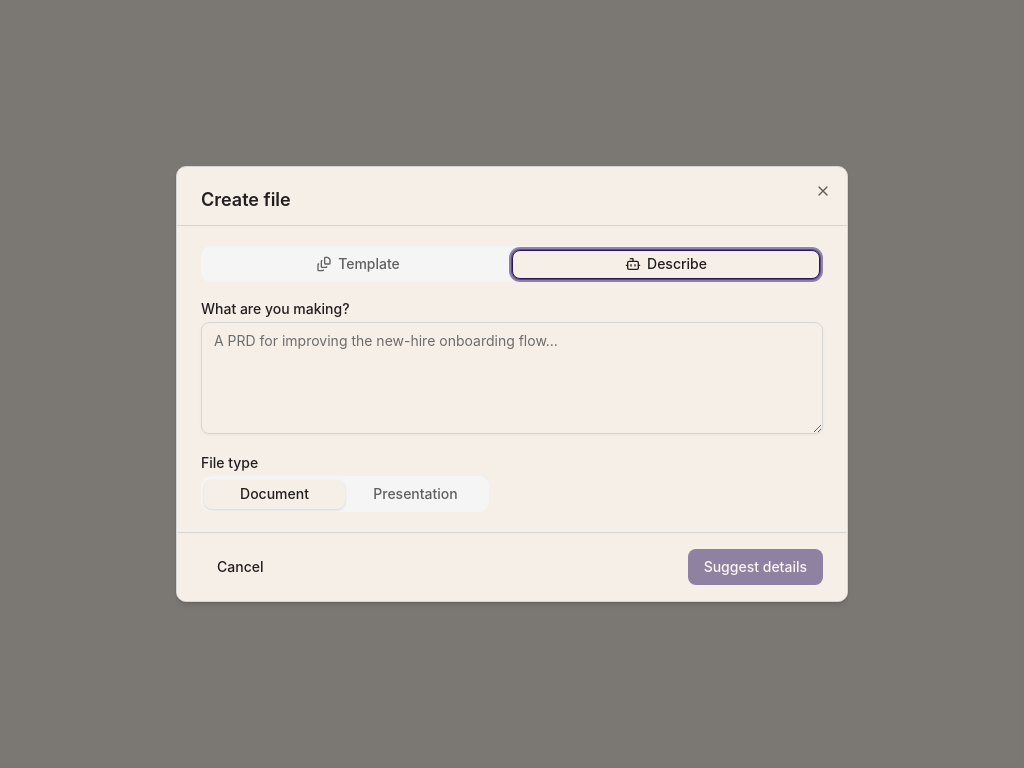
Test: SmartCreateDialog › only offers templates from the invoking drive
Press the mouse on the tab "Template": (358, 264) [204,250,512,278]
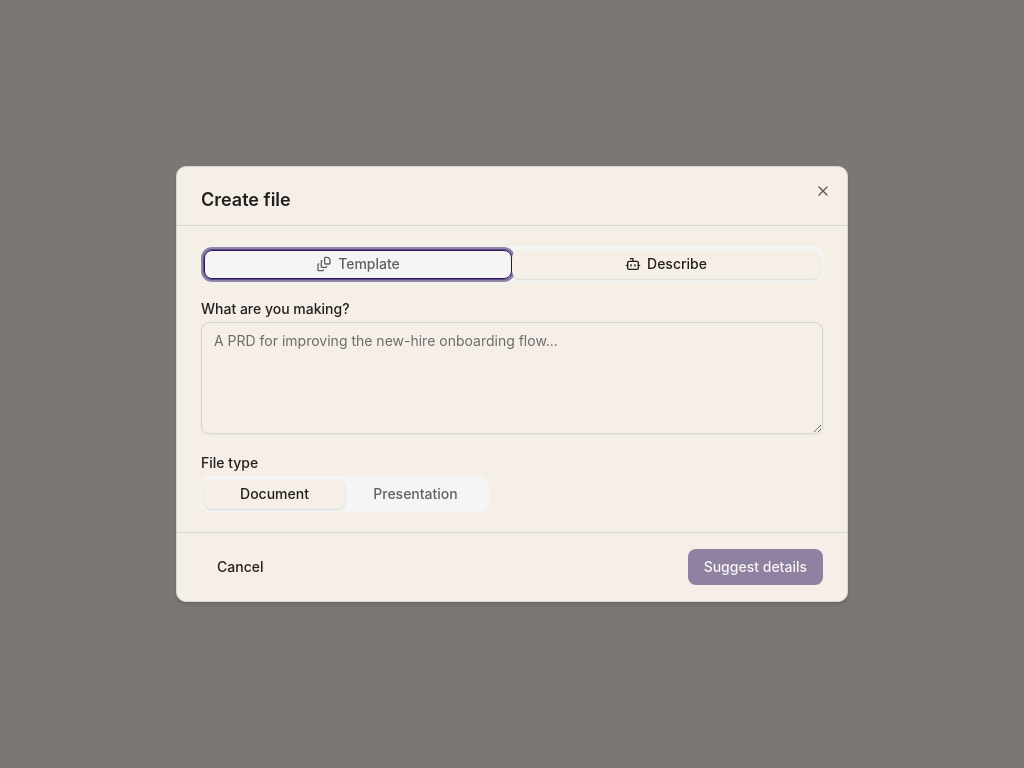
Click the tab "Template": (358, 264) [204,250,512,278]
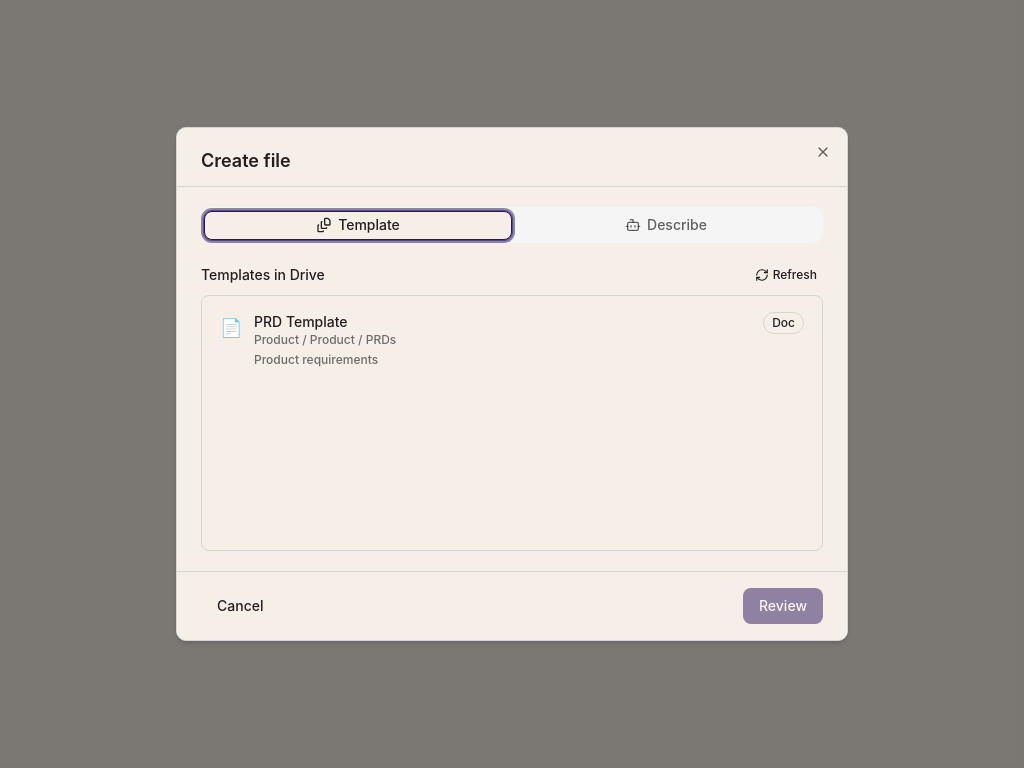
Expected: the button that starts with "PRD Template" is enabled, [208,302,816,378]
